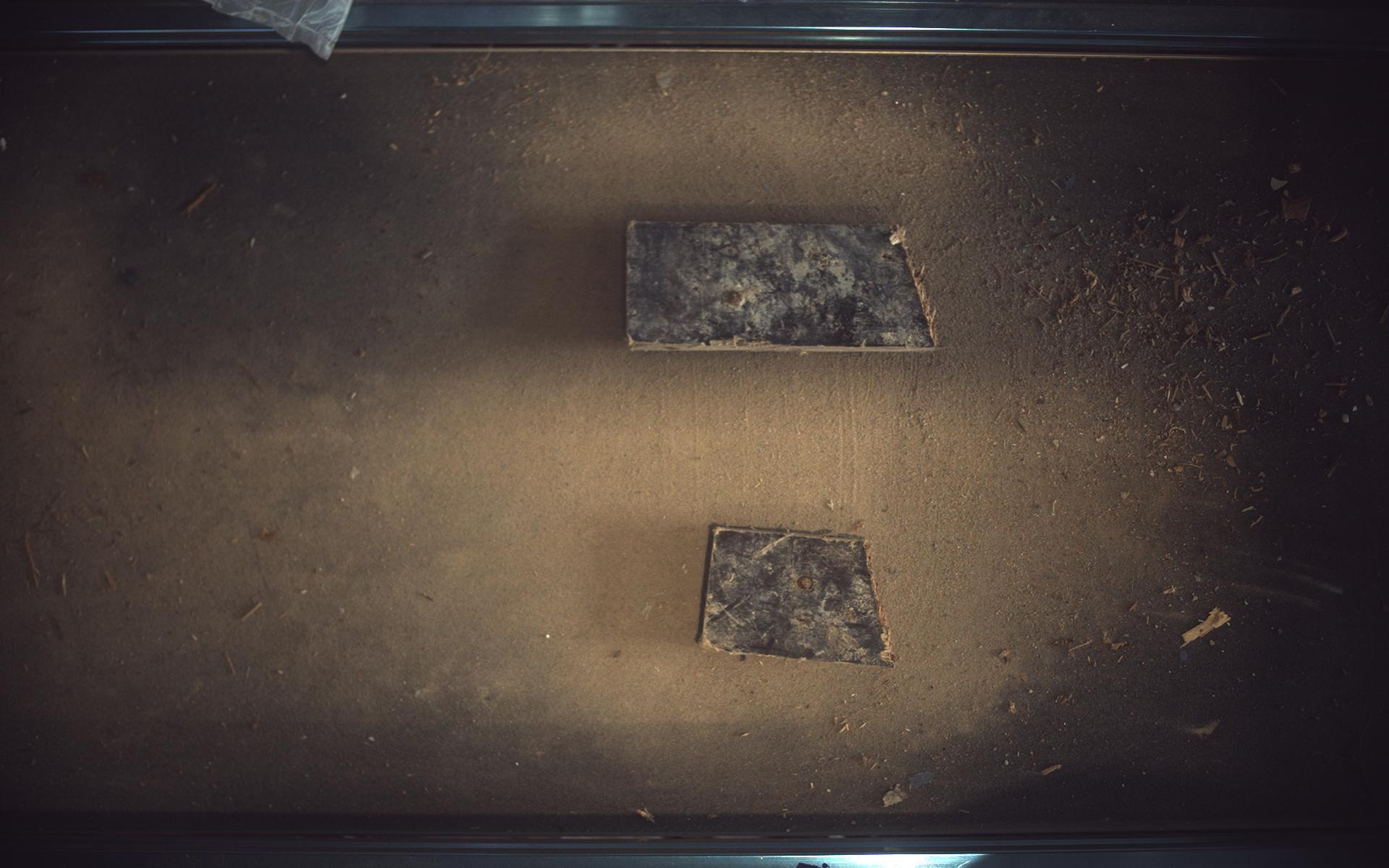wood: (627, 221, 938, 352), (698, 524, 898, 668)
